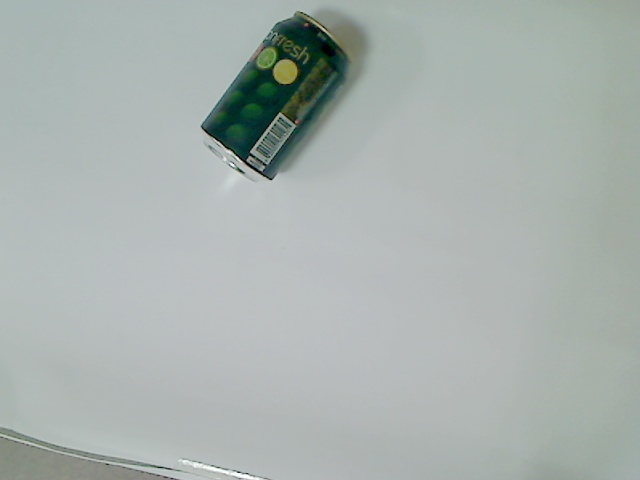can: (197, 9, 355, 186)
